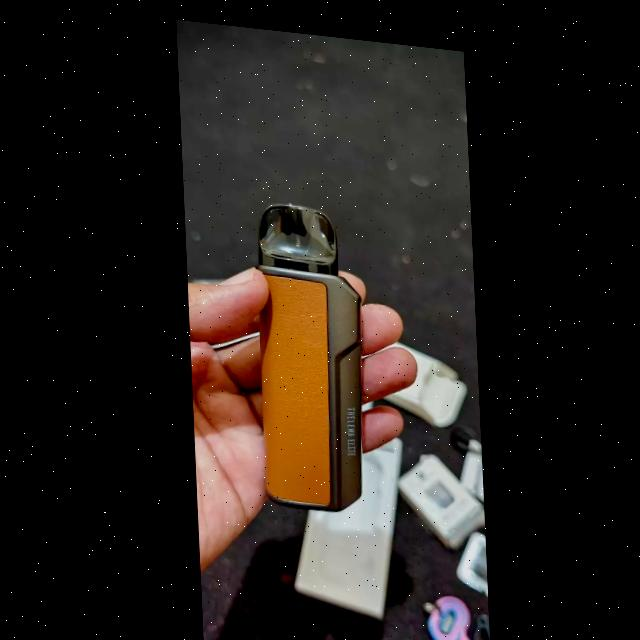vape: (253, 193, 366, 508)
